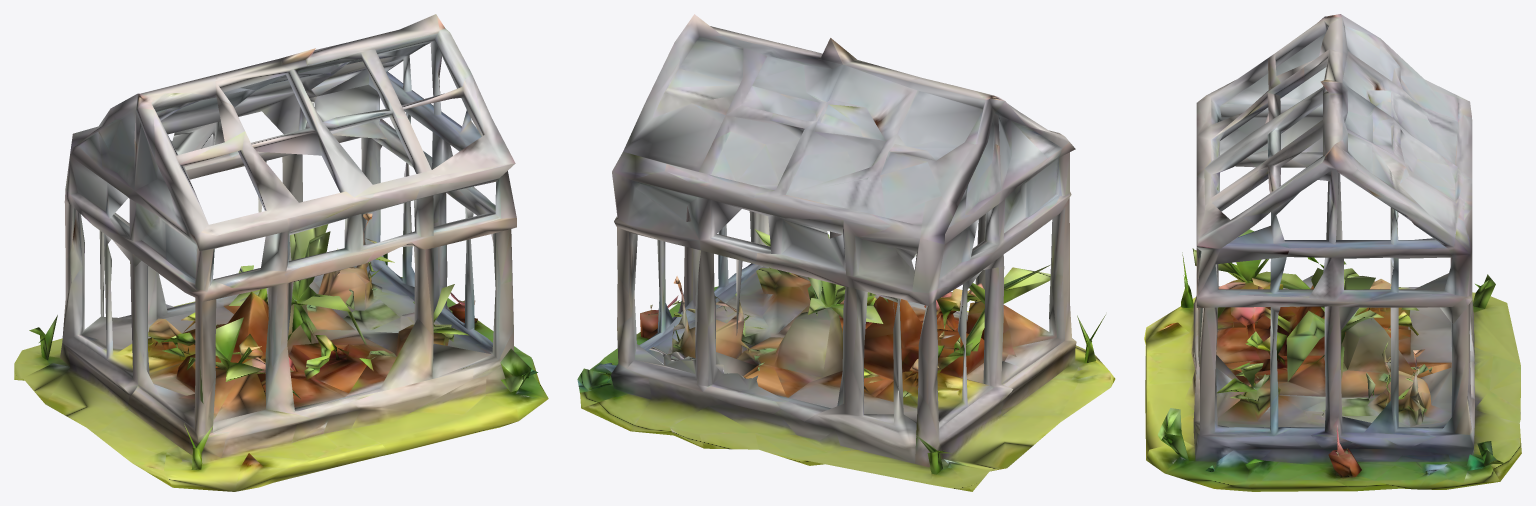
File: greenhouse.glb
3 views of the same model, side by side, from view 1: azimuth 30°, elevation 25°; view 2: azimuth 150°, elevation 25°; view 3: azimuth 270°, elevation 25° (orthographic). The views are drawn at different scales.
Visible parts, largest first — view 1: tripo_node_2f227b3a-d716-4ba3-8216-fa854364138c; view 2: tripo_node_2f227b3a-d716-4ba3-8216-fa854364138c; view 3: tripo_node_2f227b3a-d716-4ba3-8216-fa854364138c.
Boxes of the visible parts, bbox=[...] form: tripo_node_2f227b3a-d716-4ba3-8216-fa854364138c: bbox=[14, 14, 548, 491]; tripo_node_2f227b3a-d716-4ba3-8216-fa854364138c: bbox=[577, 14, 1115, 491]; tripo_node_2f227b3a-d716-4ba3-8216-fa854364138c: bbox=[1144, 14, 1521, 491].
Size of the model in its own units: 0.9729 by 0.7633 by 0.799.
Materials: 1 (1 with a texture image).
